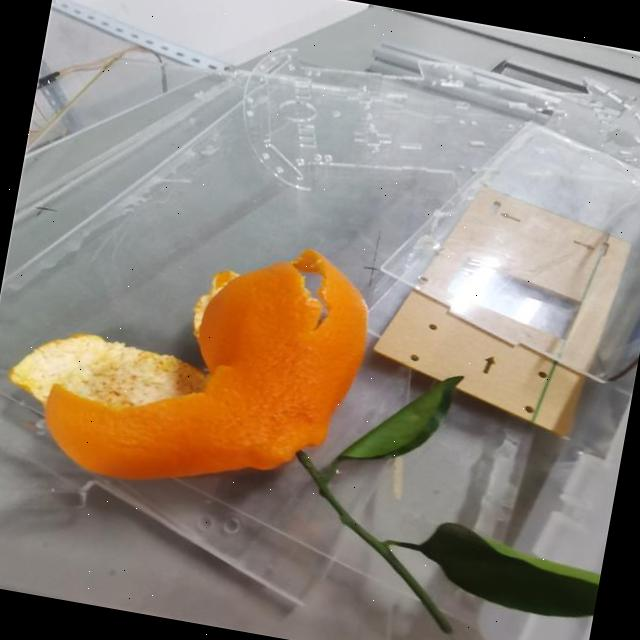orange-peel: (31, 205, 382, 518)
